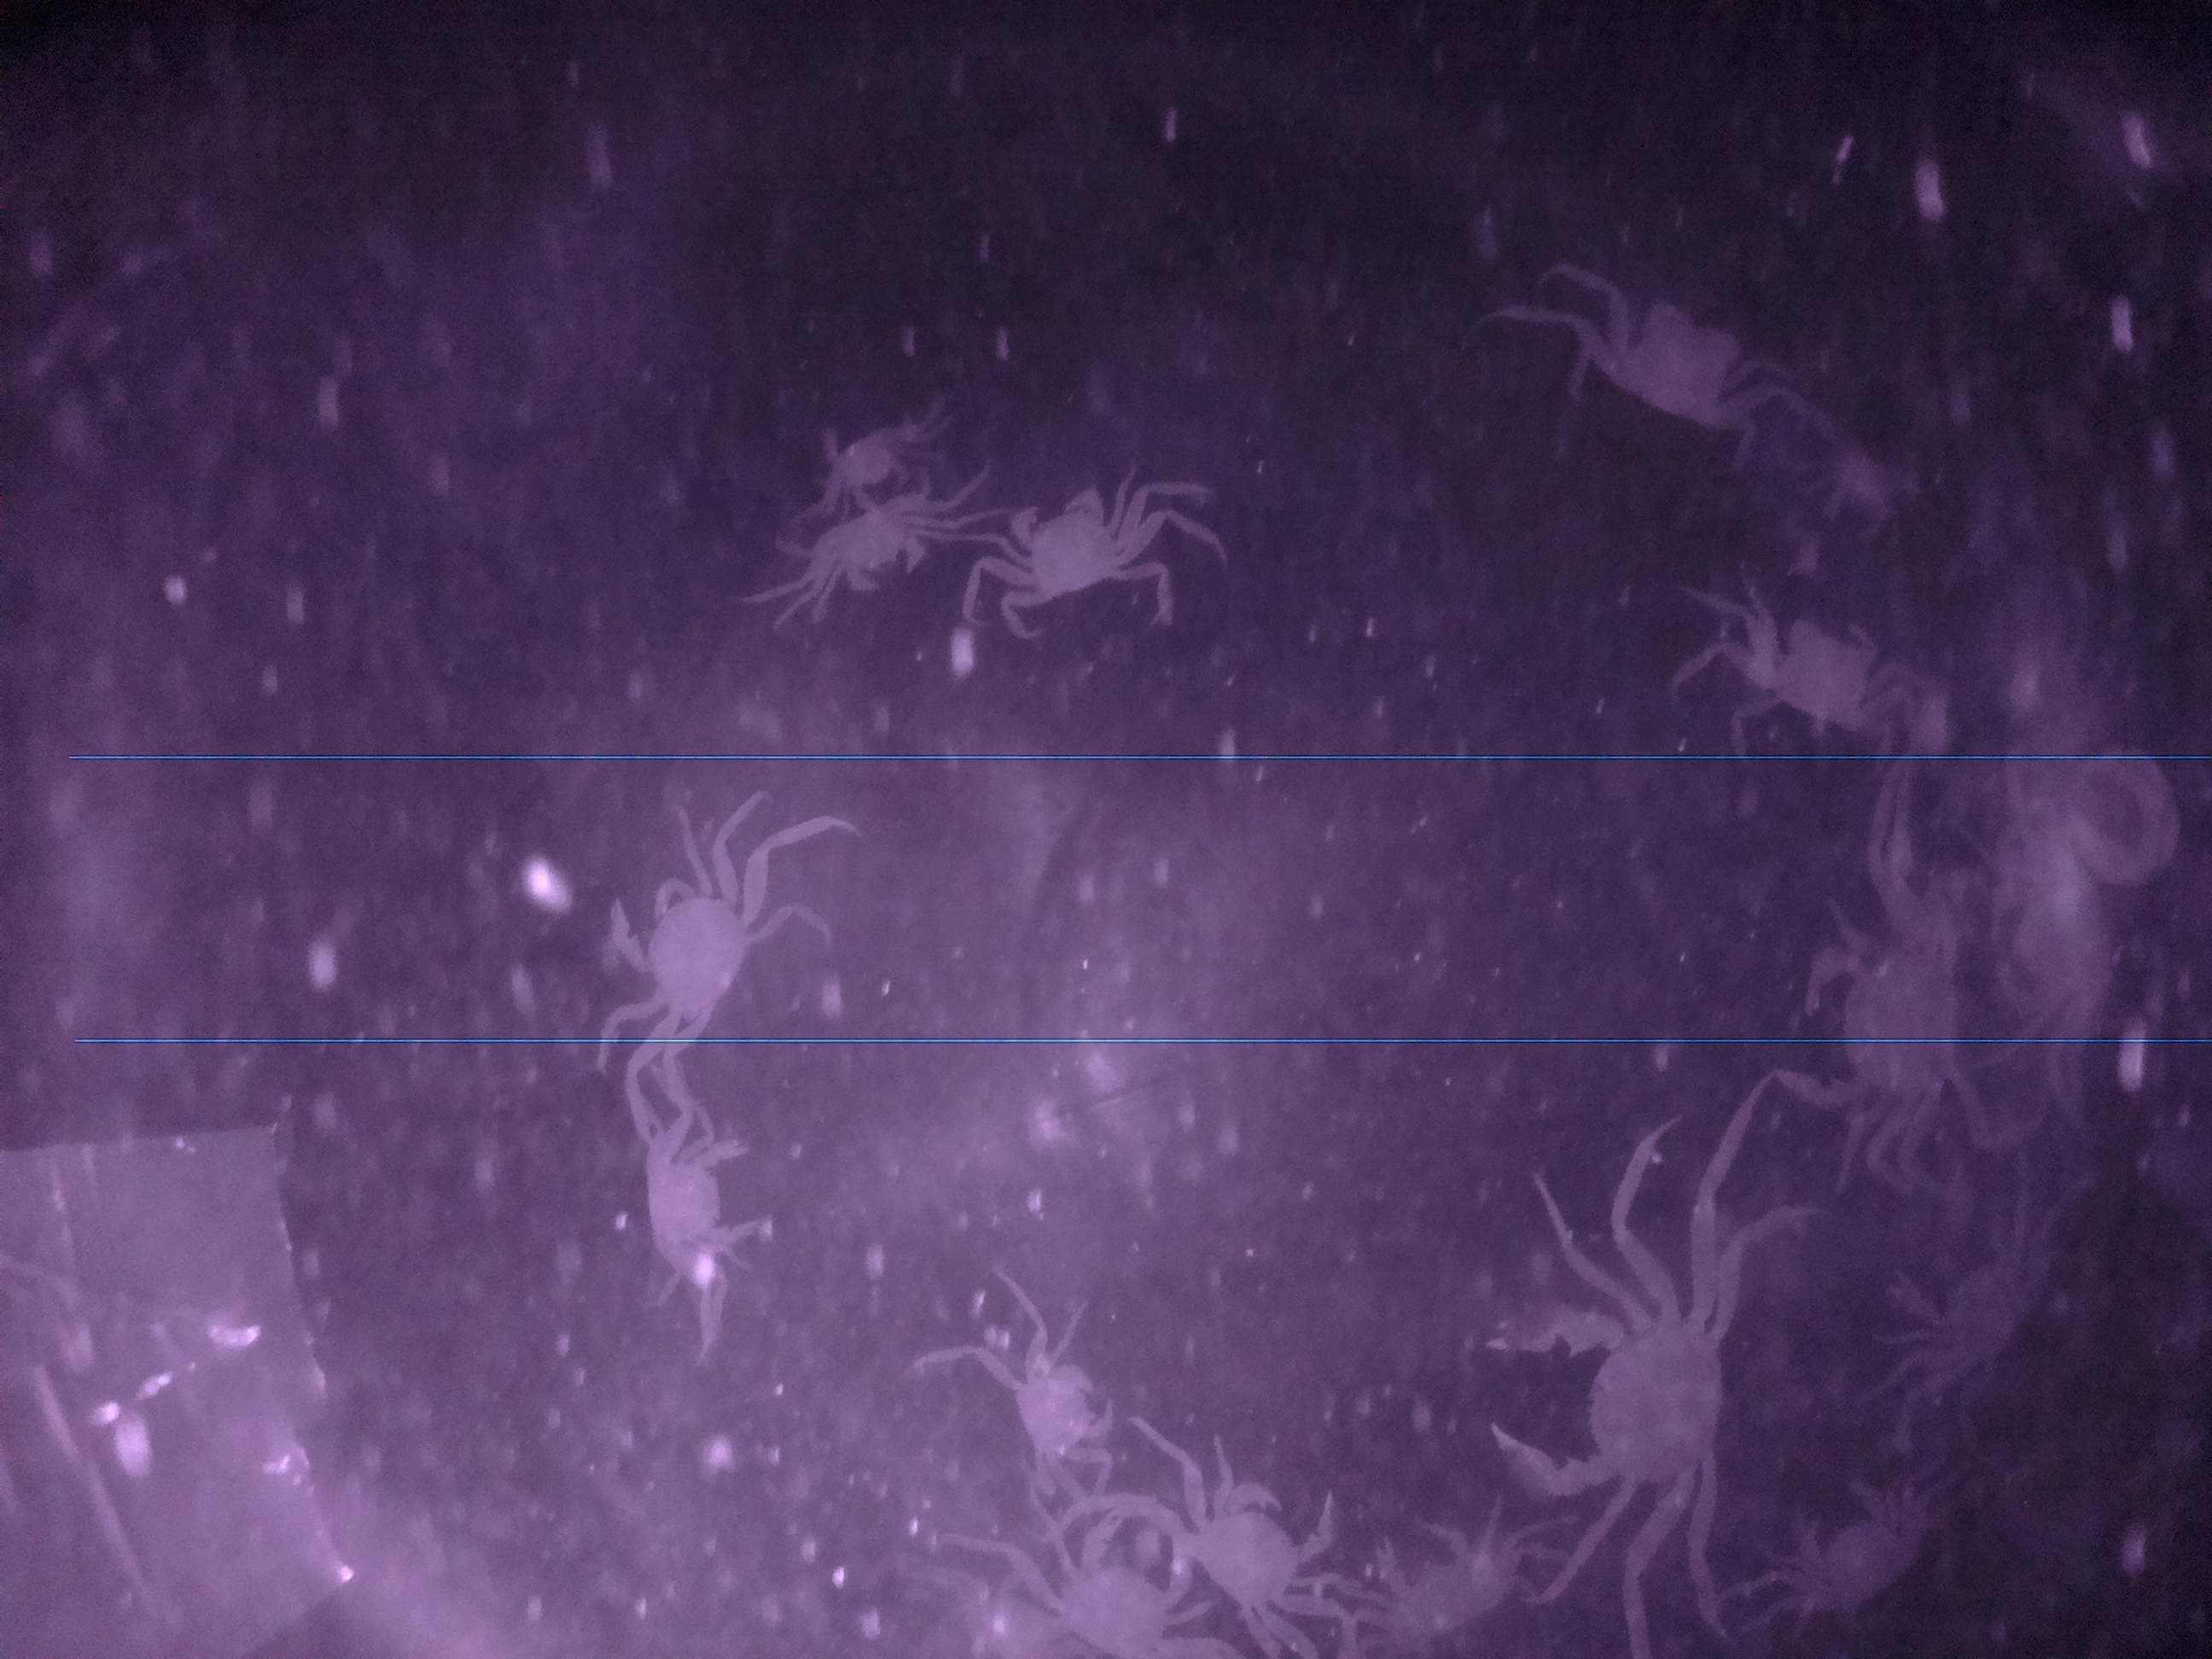Crab: (1472, 1281, 1742, 1530), (1165, 1445, 1355, 1640), (585, 835, 766, 1021), (1885, 1209, 2052, 1405), (1580, 291, 1768, 448), (1721, 598, 1909, 742), (1770, 1462, 1935, 1619), (1001, 484, 1177, 624), (618, 1117, 763, 1279), (993, 1326, 1130, 1495), (808, 495, 939, 617)
